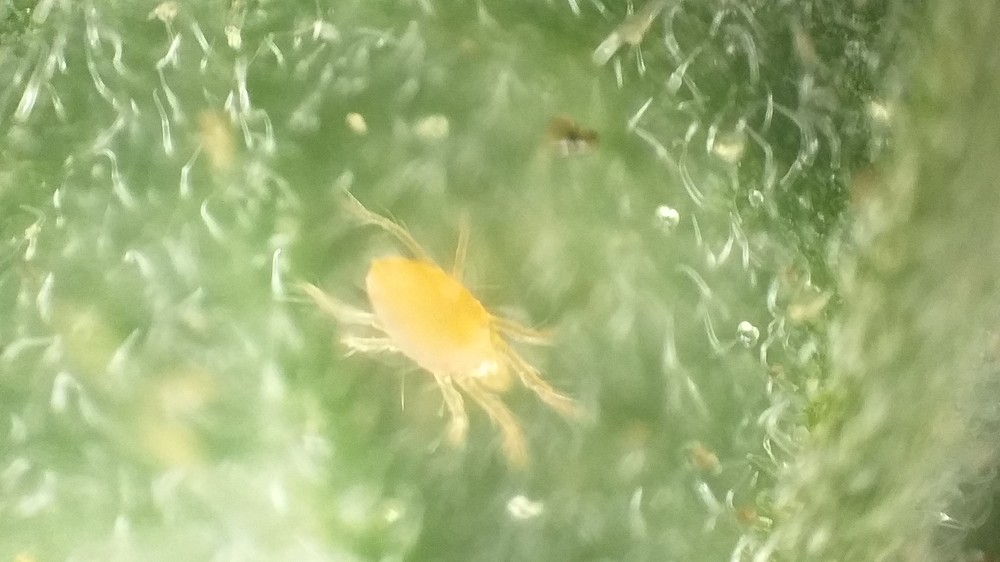Aracnido Rojo: (279, 189, 623, 473)
